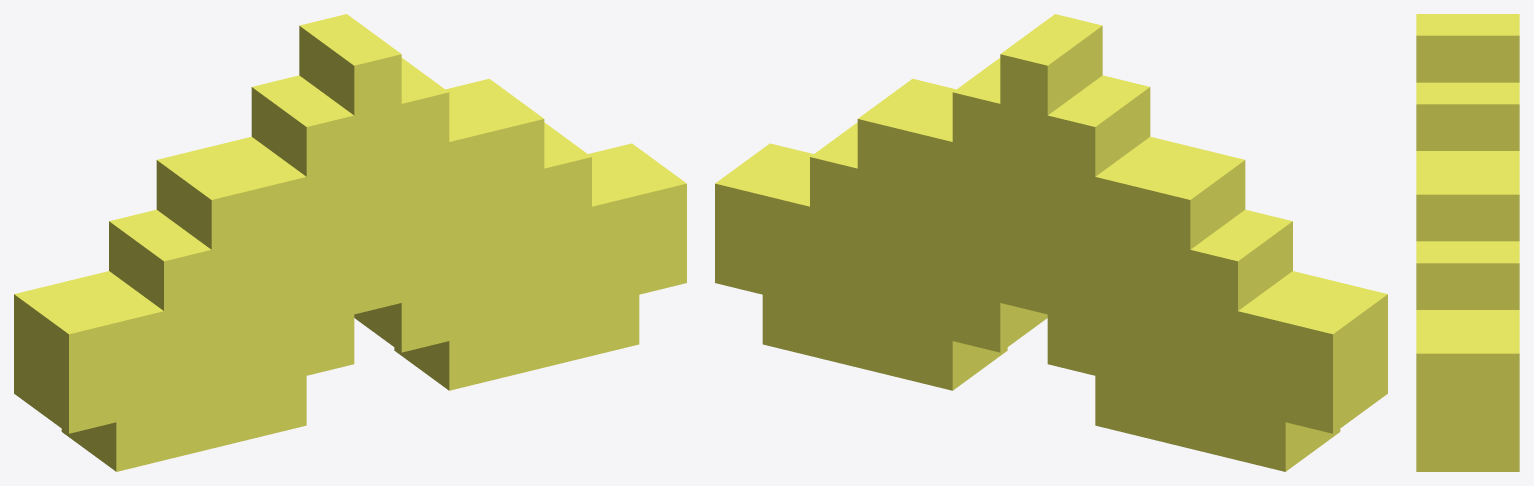
Rendered from pacmand7.fbx.
3 renders of one model, left to right at view 1: azimuth 30°, elevation 25°; view 2: azimuth 150°, elevation 25°; view 3: azimuth 270°, elevation 25°, orthographic. The views are drawn at different scales.
Parts seen in each view (by area): view 1: pacmand7; view 2: pacmand7; view 3: pacmand7.
Boxes of the visible parts, <box> form: pacmand7: <box>14,14,686,471</box>; pacmand7: <box>715,14,1387,471</box>; pacmand7: <box>1416,14,1519,471</box>.
Bounding box in the file's own units: 130 × 70 × 20.
